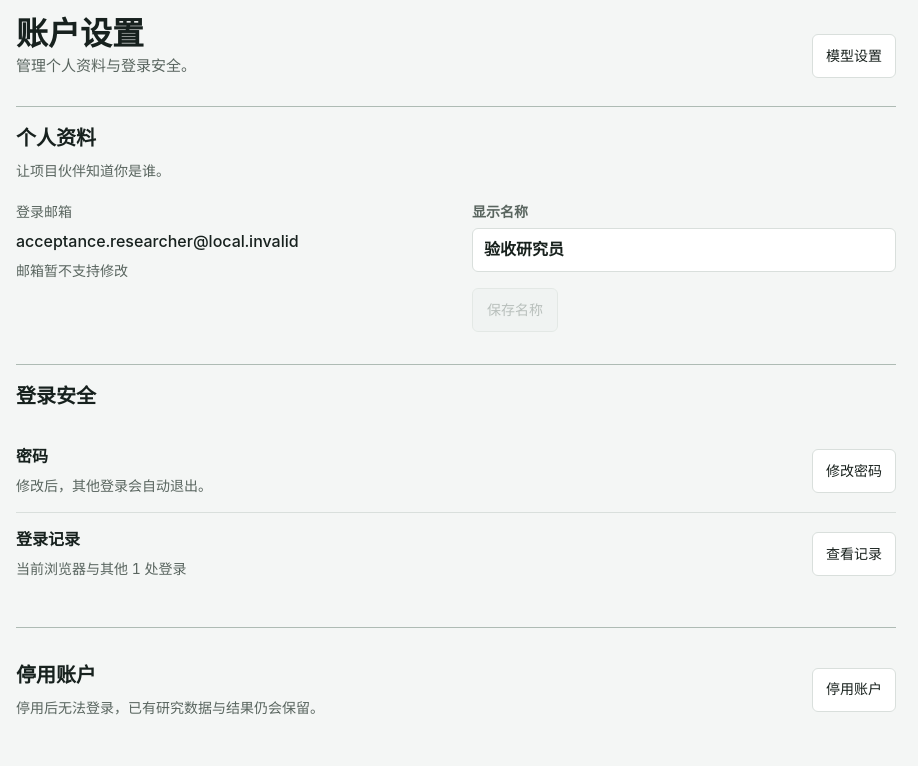
Test: updates the display name through the authoritative profile endpoint
Replace the text in the field labelled "显示名称" with "材料研究员" at (684, 250), box [472,228,896,272]
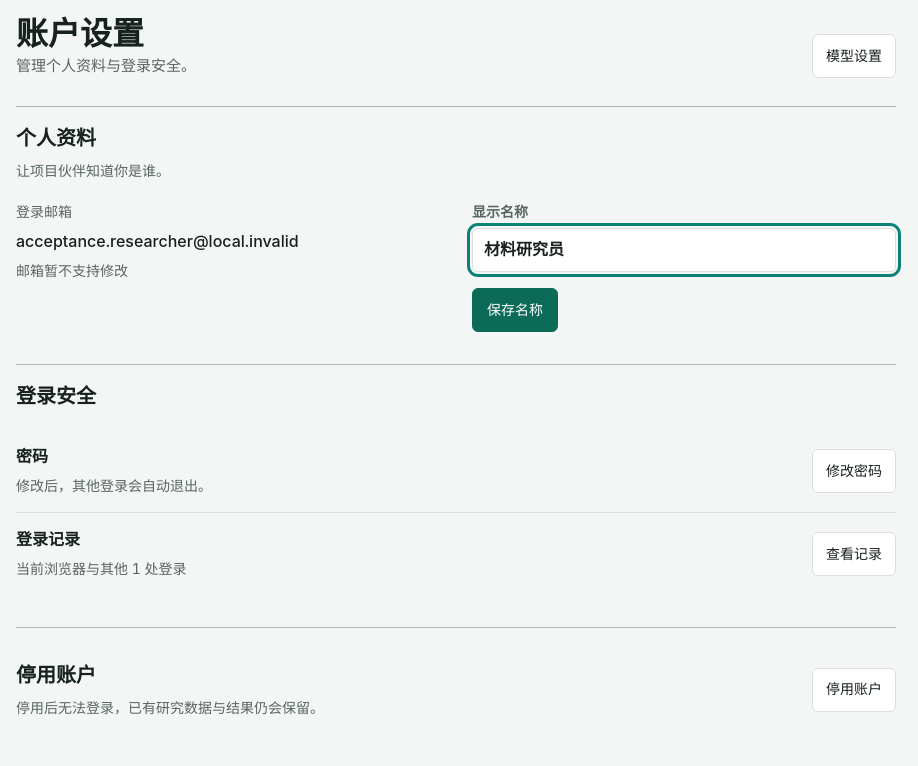
Click the button "保存名称" at (515, 310), box [472,288,558,332]
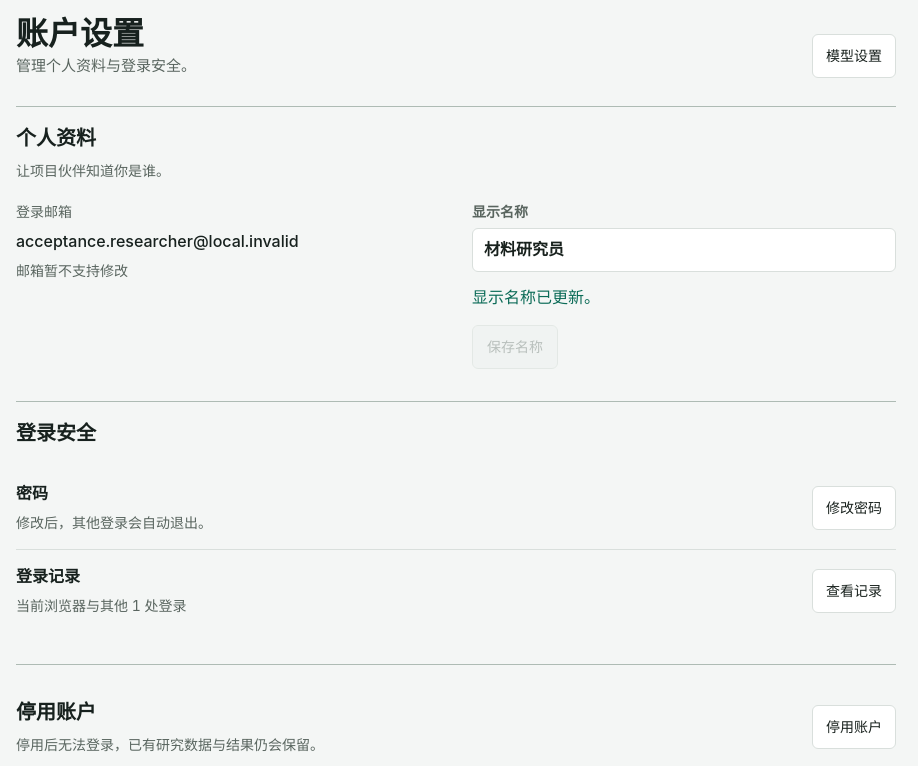
Expected: the text "显示名称已更新。" is shown, [472,287,600,307]
